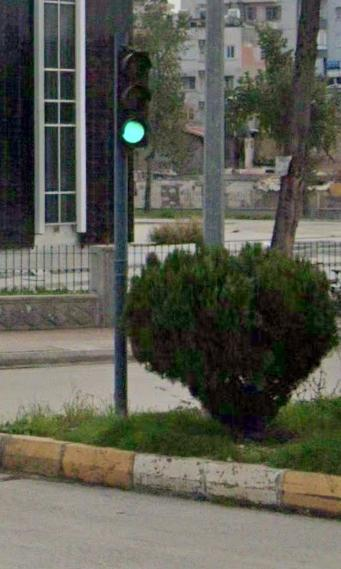greenlight: (113, 51, 150, 151)
